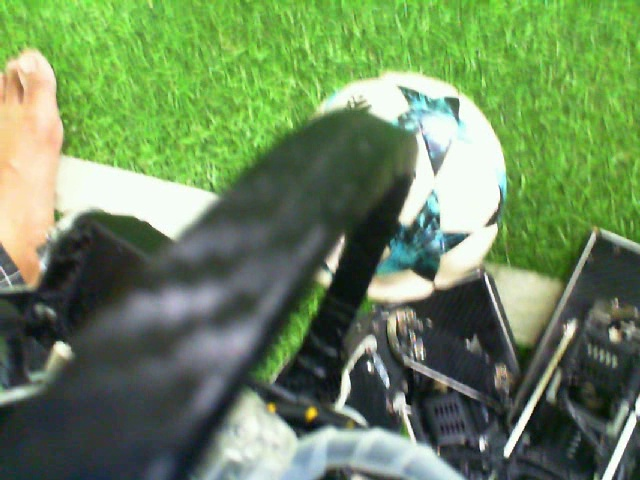ball: (357, 67, 509, 307)
